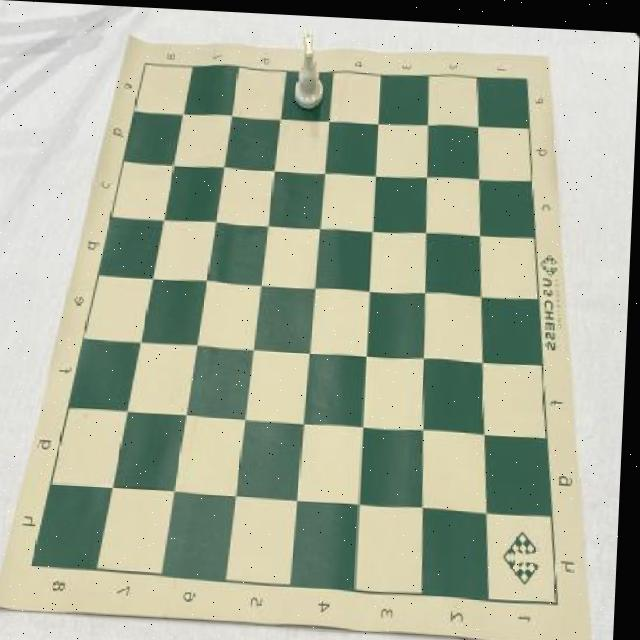white-king: (293, 23, 326, 107)
